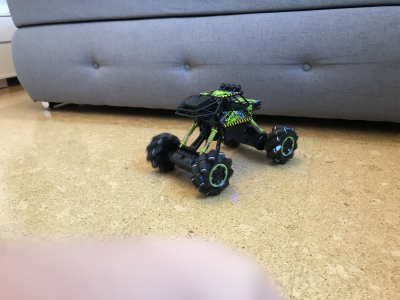remote control car: (144, 79, 300, 199)
